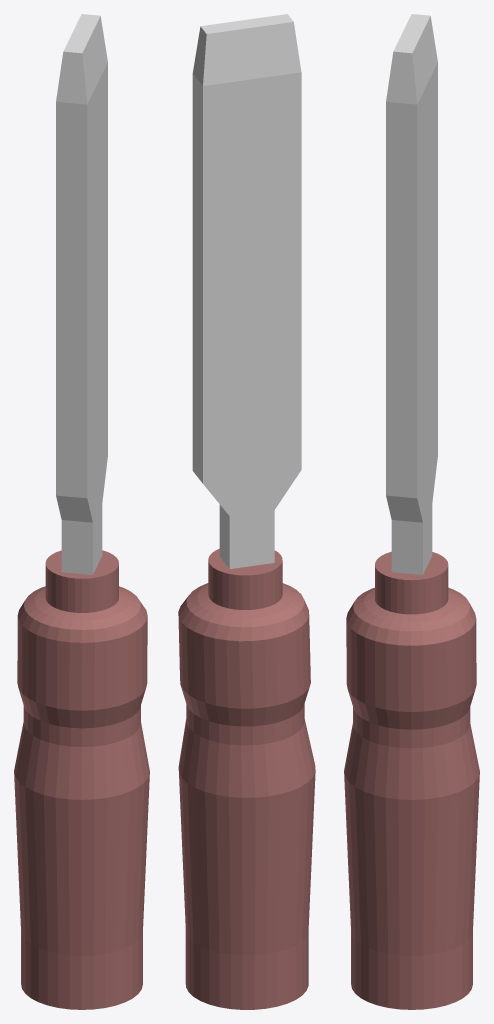
Rendered from Chisel1.fbx.
The picture shows the model from 3 angles, left to right: view 1: azimuth 90°, elevation 25°; view 2: azimuth 210°, elevation 25°; view 3: azimuth 270°, elevation 25°; orthographic projection.
Parts seen in each view (by area): view 1: Chisel.001; view 2: Chisel.001; view 3: Chisel.001.
Boxes of the visible parts, left/top/right/bottom form: Chisel.001: left=14, top=14, right=149, bottom=1009; Chisel.001: left=178, top=14, right=315, bottom=1009; Chisel.001: left=344, top=14, right=479, bottom=1009.
Size of the model in its own units: 7.89 by 7.87 by 60.7.
